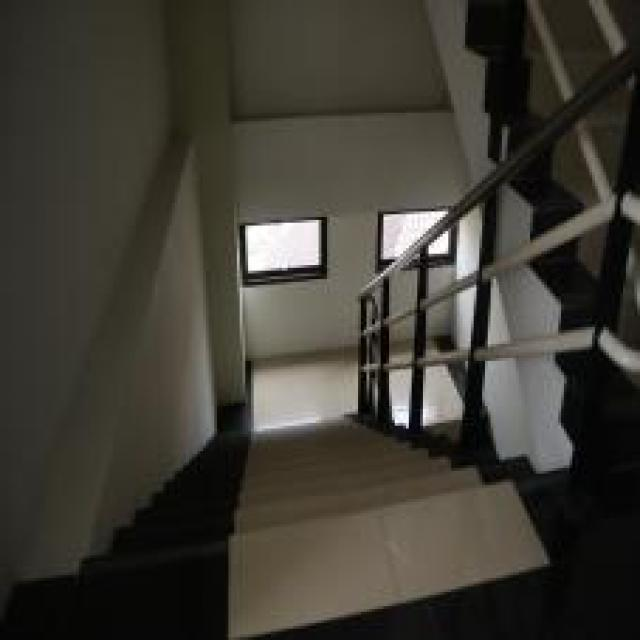downstair: (213, 438, 419, 568)
